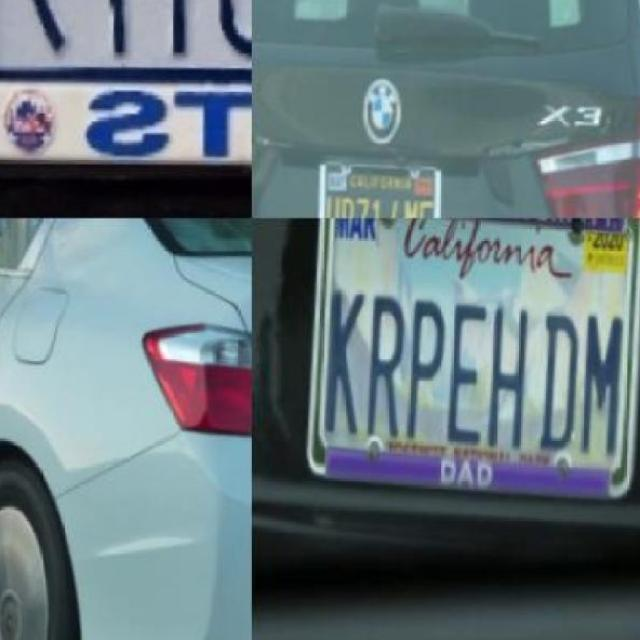license-plate: (252, 230, 640, 640), (0, 0, 250, 211), (321, 164, 440, 226)
